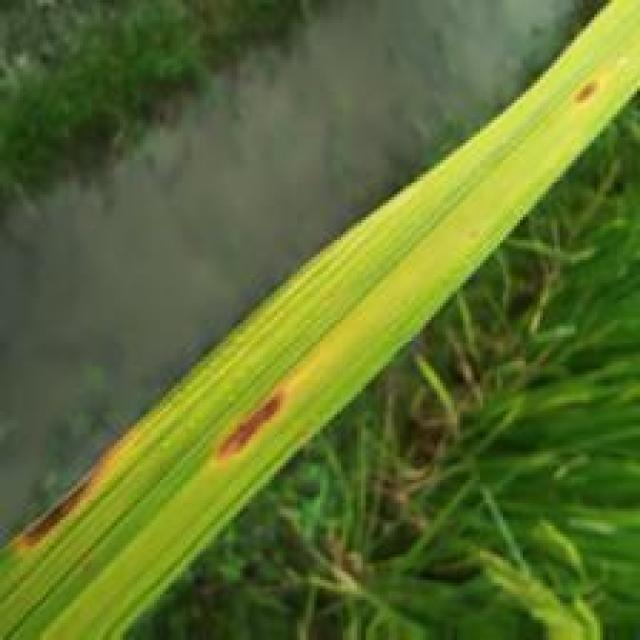Narrow_Brown_Leaf_Spot: (0, 396, 163, 565), (206, 365, 308, 469), (571, 76, 599, 104)
